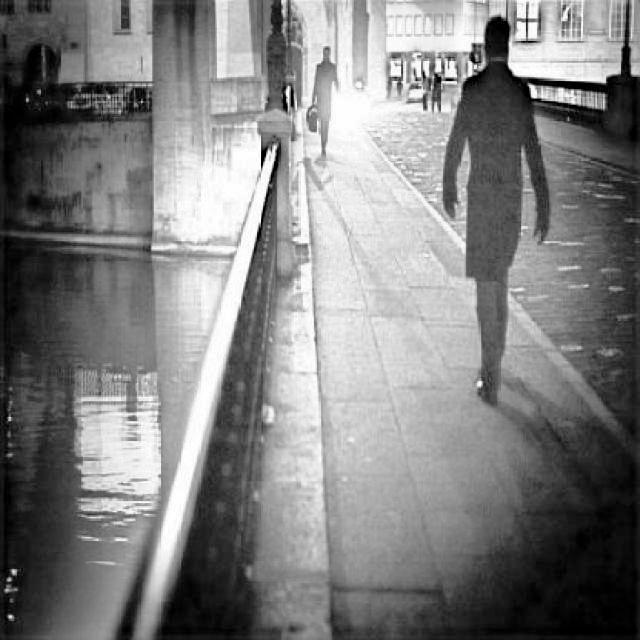Person: (437, 13, 550, 402), (311, 35, 344, 160)
